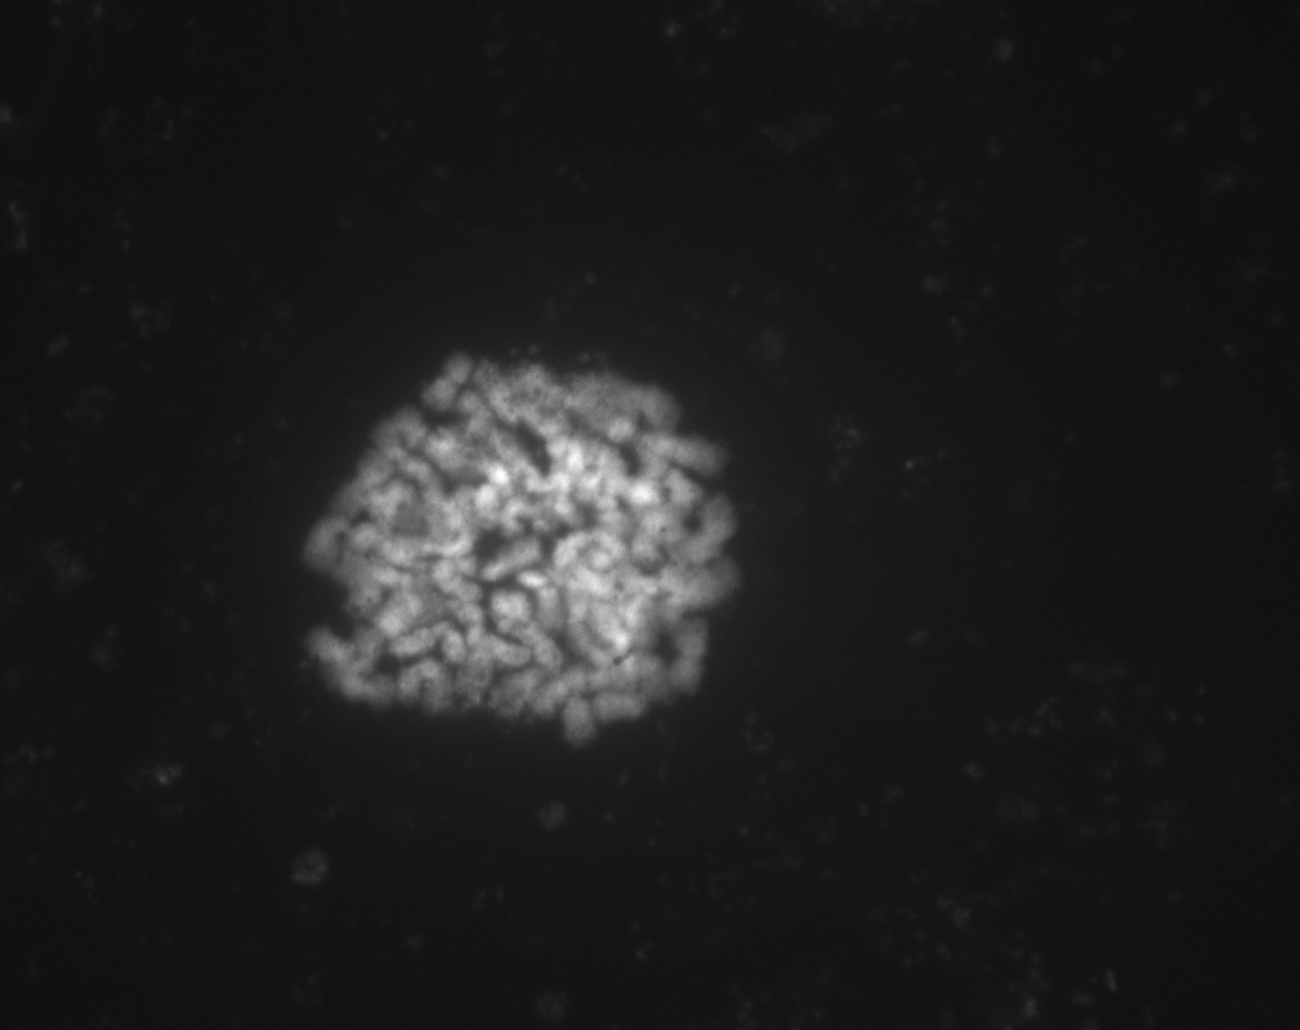Chromosomes: (254, 299, 779, 795)
